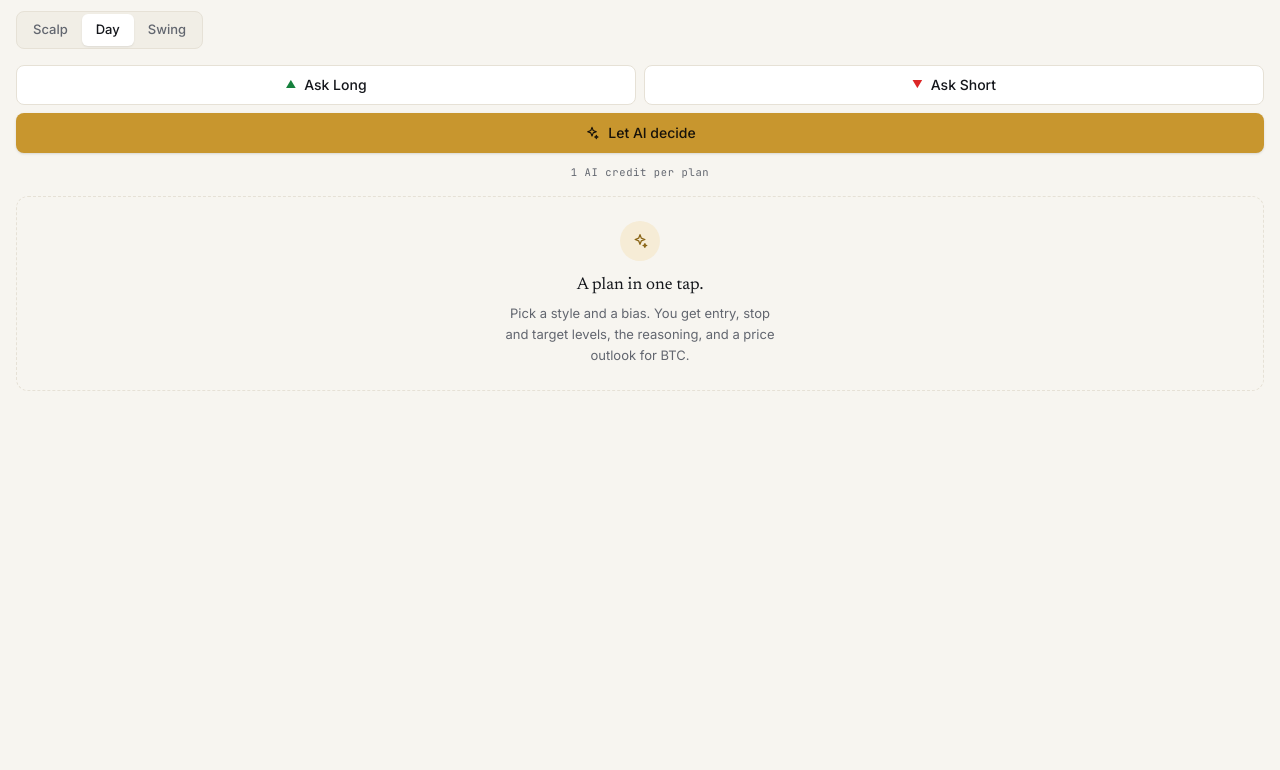
Copilot › reads an entry away from the price as a limit order, and one at the price as market
The width and height of the screenshot is (1280, 770).
Click the button "▲ Ask Long" at {"x": 326, "y": 84}, box top-left (16, 64), bottom-right (636, 104)
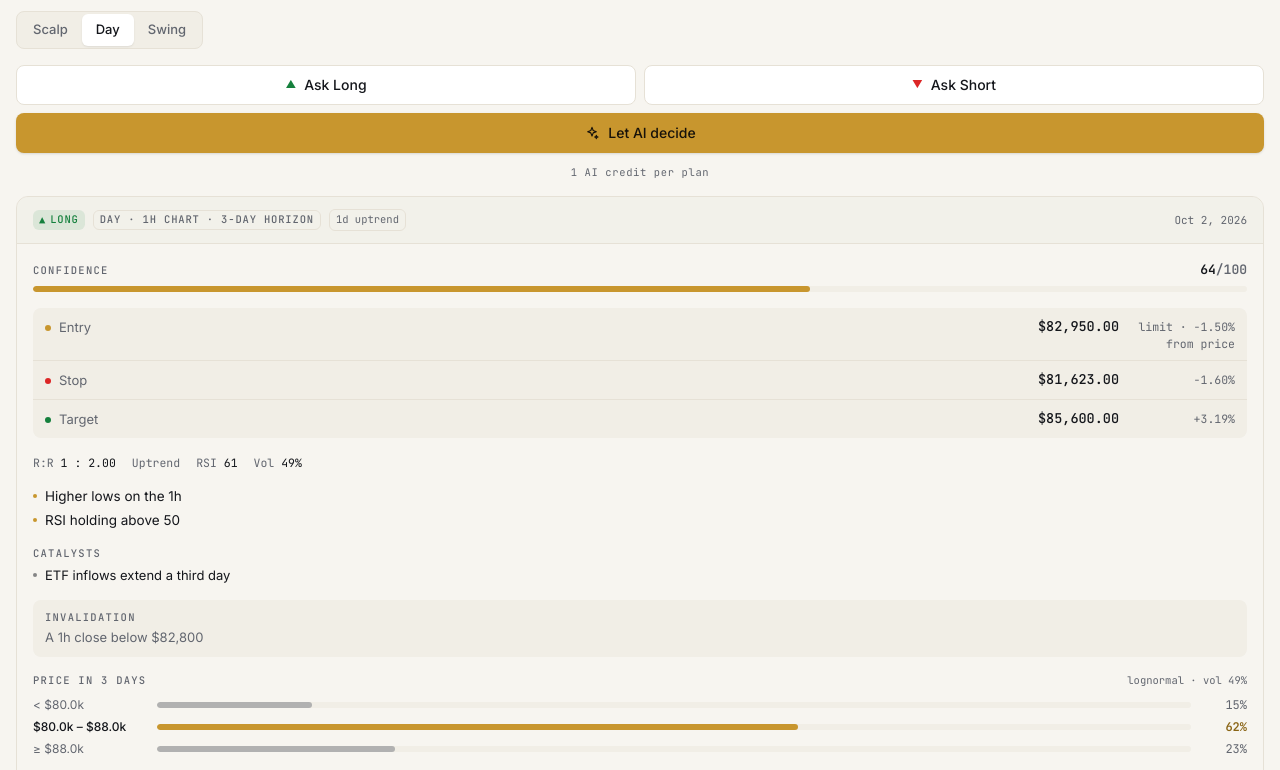
Expected: the element showing "Entry $82,950.00 limit · -1.50% from price" is shown, top-left (33, 308), bottom-right (1247, 361)
Click the button "▲ Ask Long" at {"x": 326, "y": 84}, box top-left (16, 64), bottom-right (636, 104)
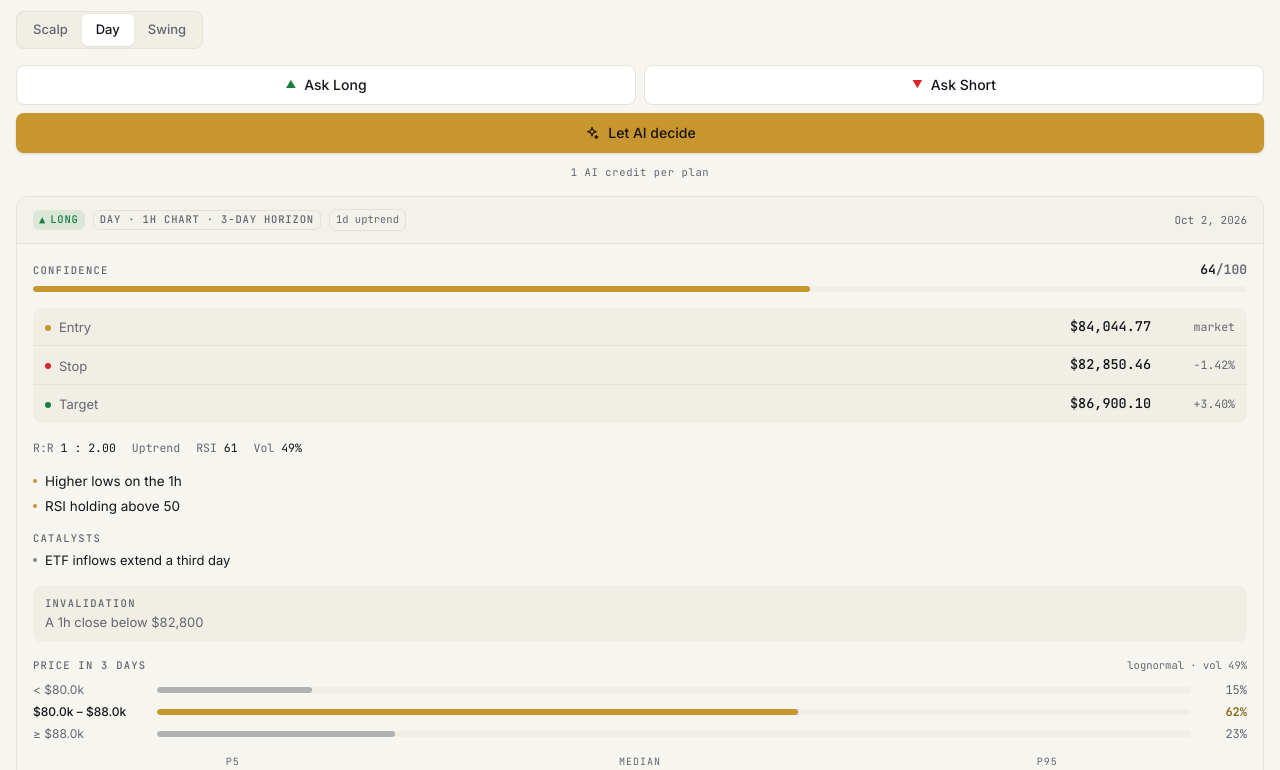
Expected: the element showing "Entry $84,044.77 market" is shown, top-left (33, 308), bottom-right (1247, 346)
Click the button "▼ Ask Short" at {"x": 954, "y": 84}, box top-left (644, 64), bottom-right (1264, 104)
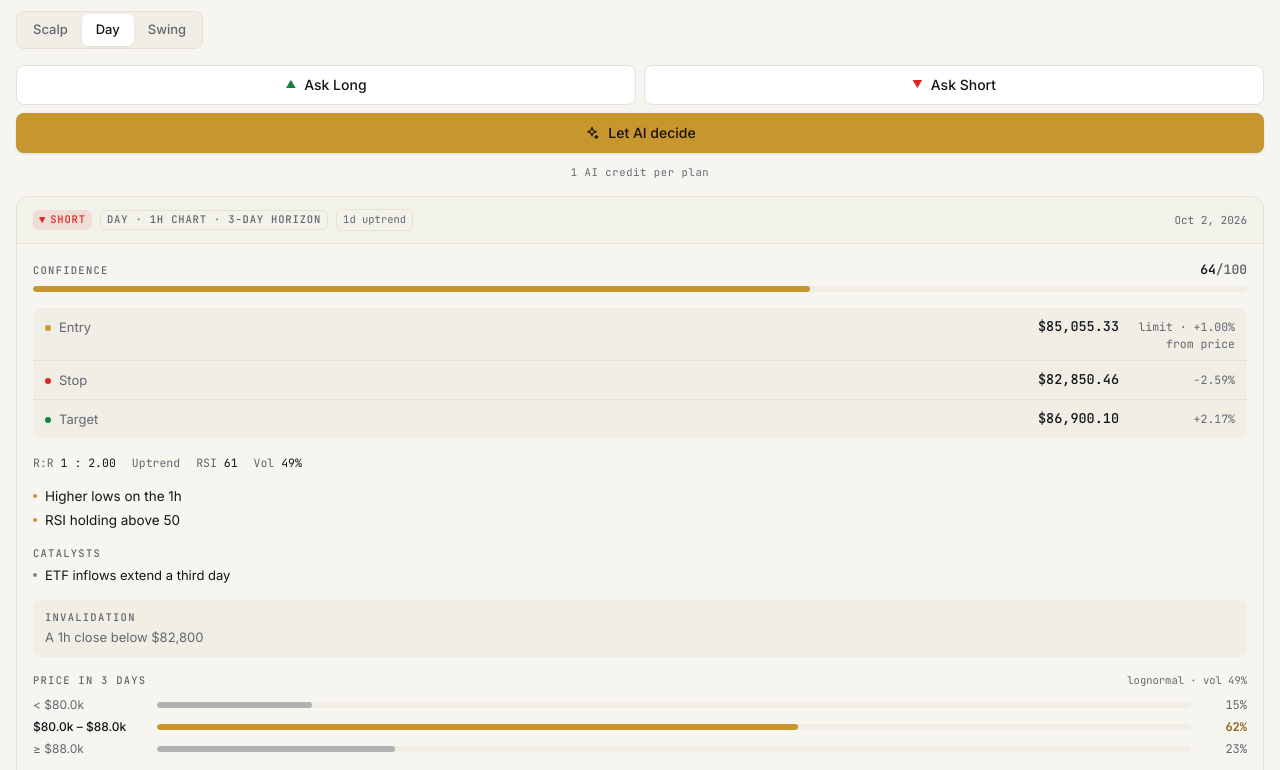
Expected: the element showing "Entry $85,055.33 limit · +1.00% from price" is shown, top-left (33, 308), bottom-right (1247, 361)
Click the button "Let AI decide" at {"x": 640, "y": 132}, box top-left (16, 112), bottom-right (1264, 152)
(page scrolled)
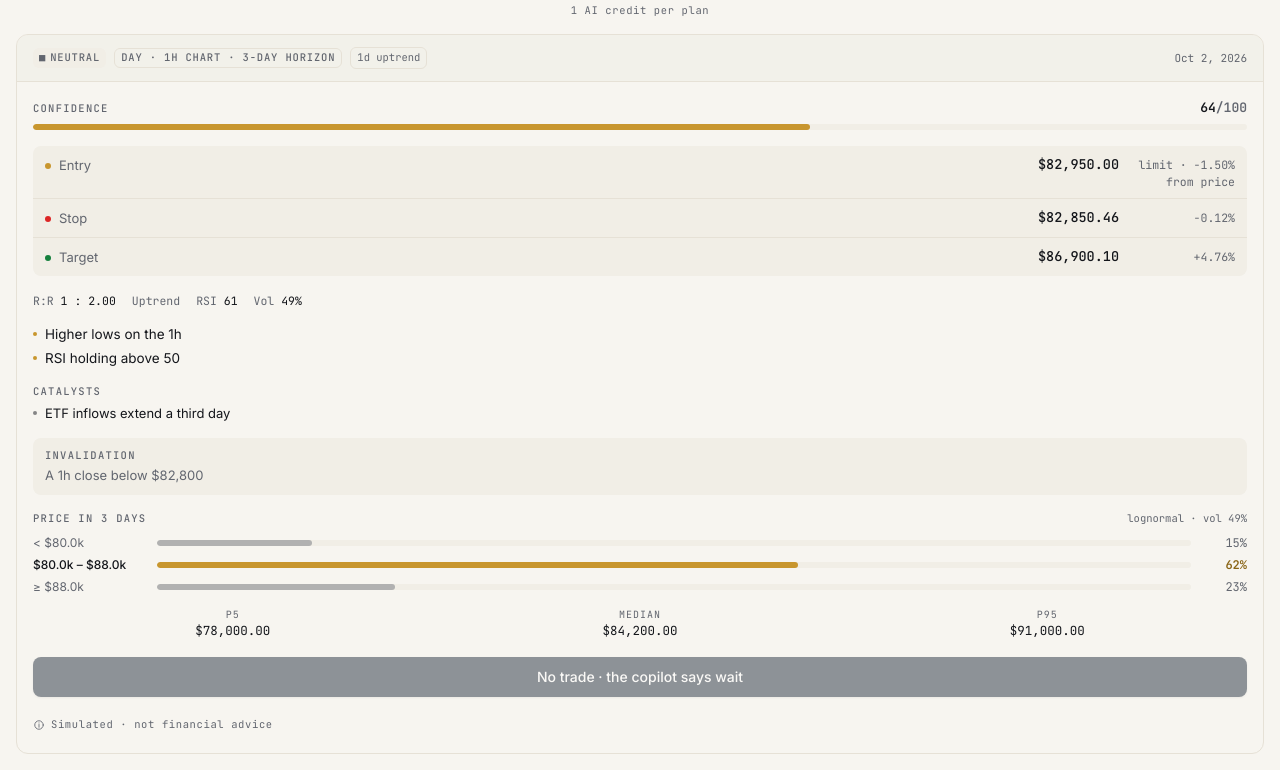
Expected: the button "No trade · the copilot says wait" is disabled, top-left (33, 656), bottom-right (1247, 696)
